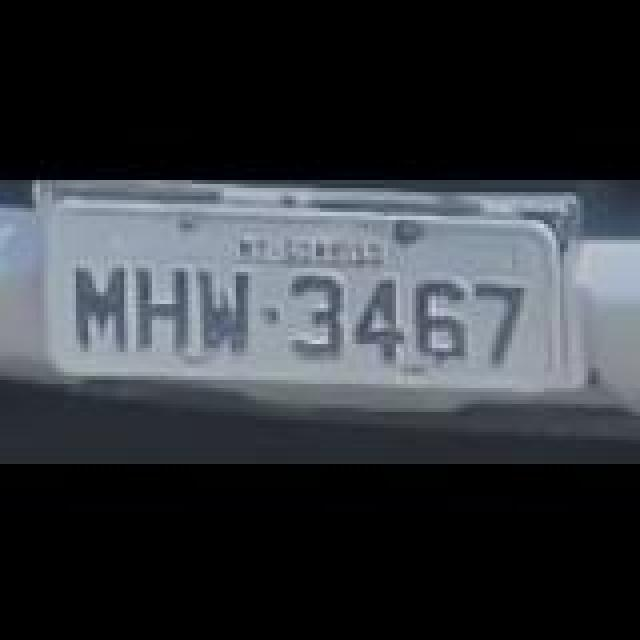3: (292, 270, 348, 354)
4: (360, 274, 408, 358)
6: (418, 274, 470, 358)
7: (478, 278, 530, 362)
H: (134, 266, 194, 350)
M: (74, 260, 134, 348)
W: (198, 266, 258, 350)
